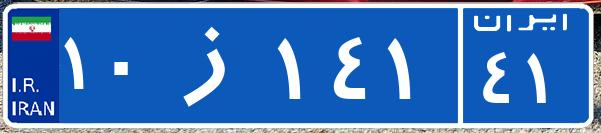0: (110, 28, 158, 105)
1: (385, 28, 445, 110), (273, 28, 330, 110), (57, 26, 110, 107), (525, 38, 570, 115)
4: (330, 28, 385, 110), (475, 38, 525, 113)
ز: (158, 15, 273, 115)
